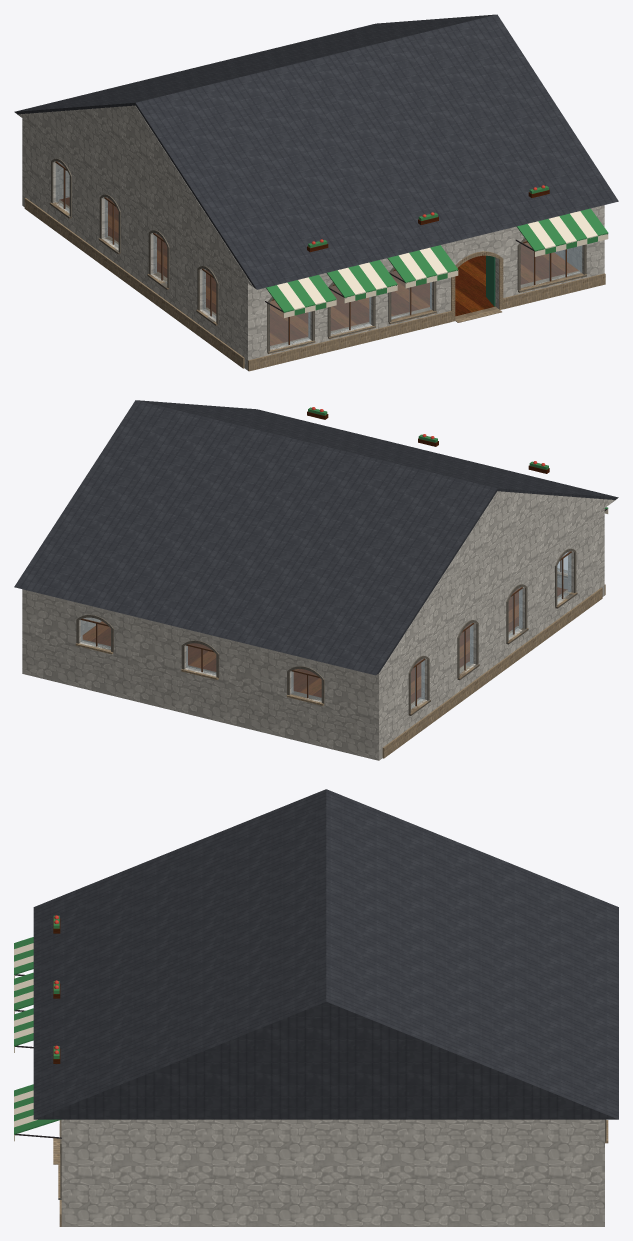
The model's file is shop_herbalist.gltf.
3 views of the same model, one above another, from view 1: azimuth 30°, elevation 25°; view 2: azimuth 150°, elevation 25°; view 3: azimuth 270°, elevation 25° (orthographic). The views are drawn at different scales.
Parts seen in each view (by area): view 1: shop_herbalist; view 2: shop_herbalist; view 3: shop_herbalist.
Part boxes in pixels (x1,y1,x2,y2): shop_herbalist: (14,14,618,371); shop_herbalist: (14,400,618,760); shop_herbalist: (14,789,618,1226).
Size of what is drawn, in the model's own units: 17.97 by 8.93 by 21.6.
7 materials, 4 textured.
